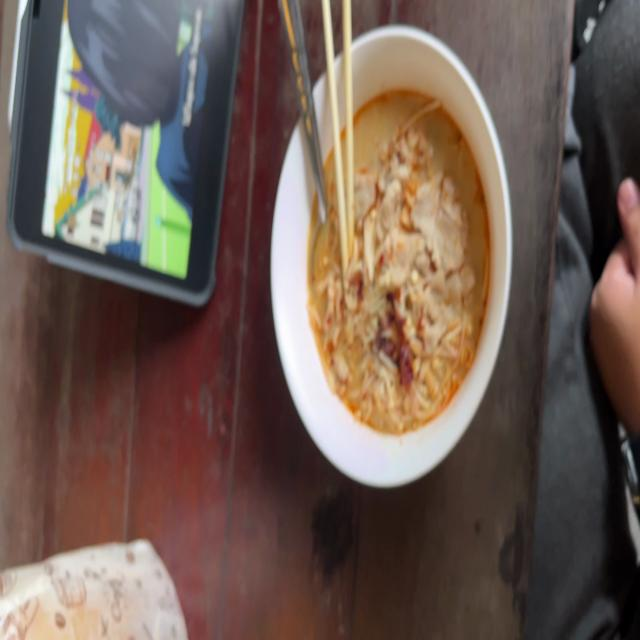noodle: (295, 47, 502, 450)
